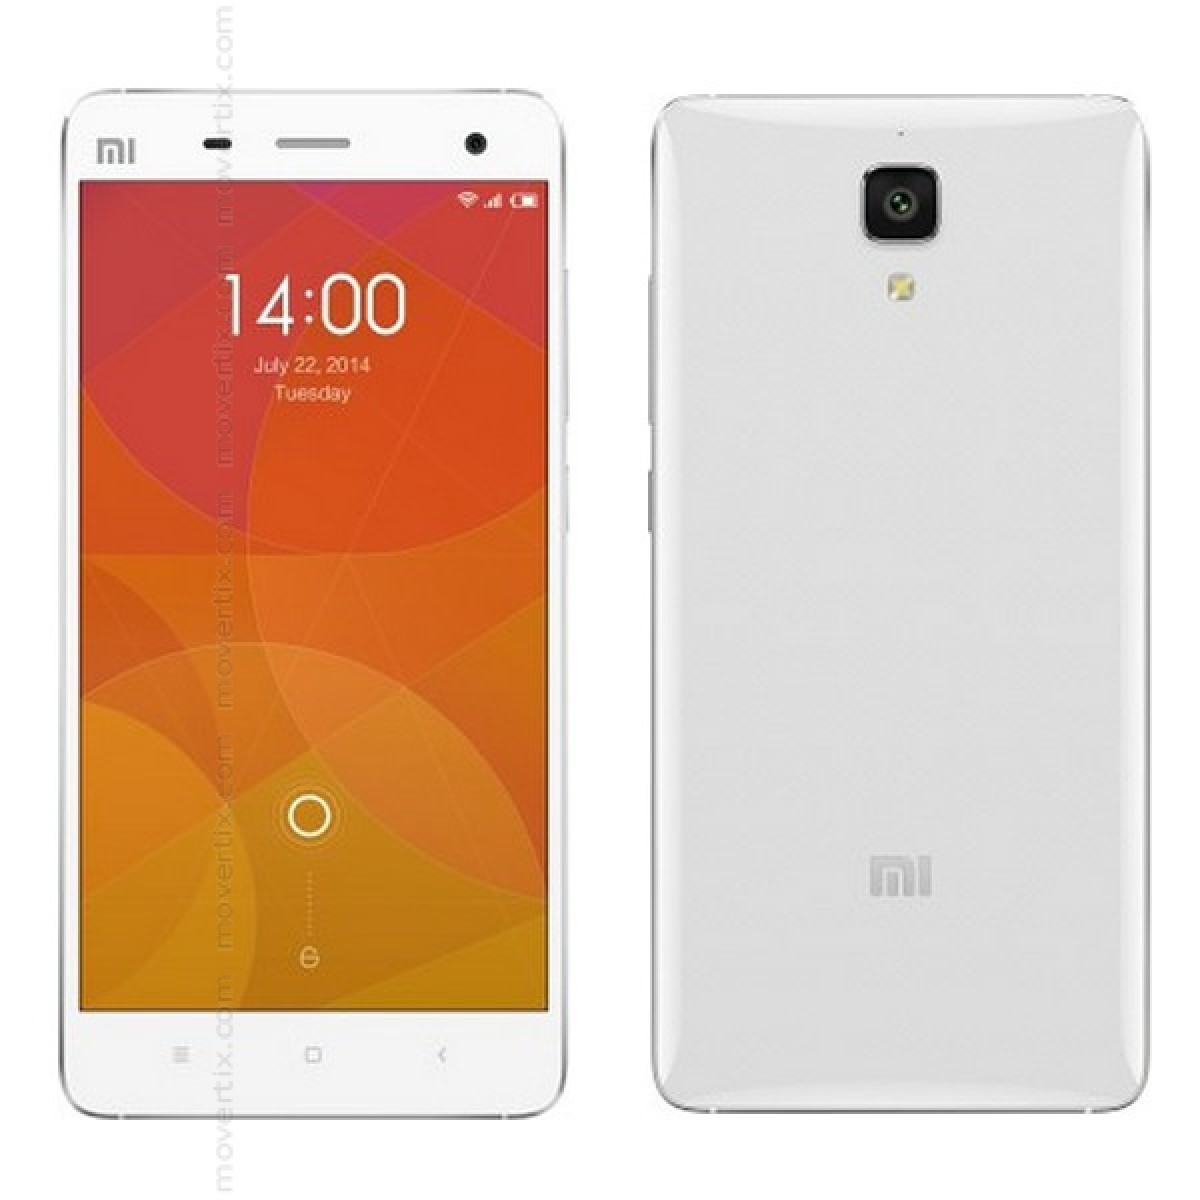smartphone: (60, 88, 568, 1120), (644, 95, 1149, 1112)
